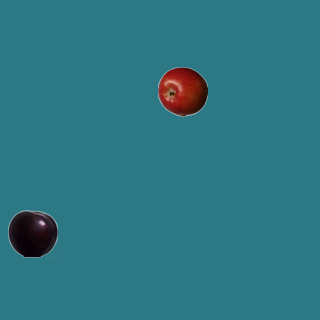Apple Braeburn: (157, 66, 207, 116)
Cherry Wax Black: (7, 208, 57, 258)
